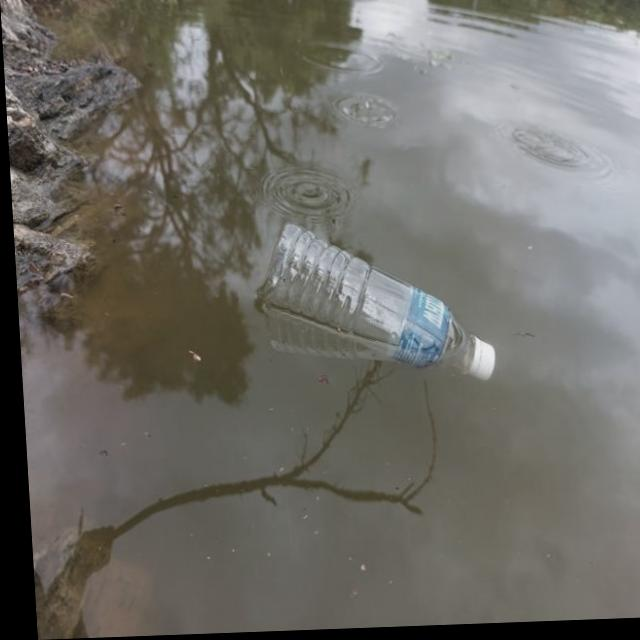waterbottle: (232, 205, 501, 412)
